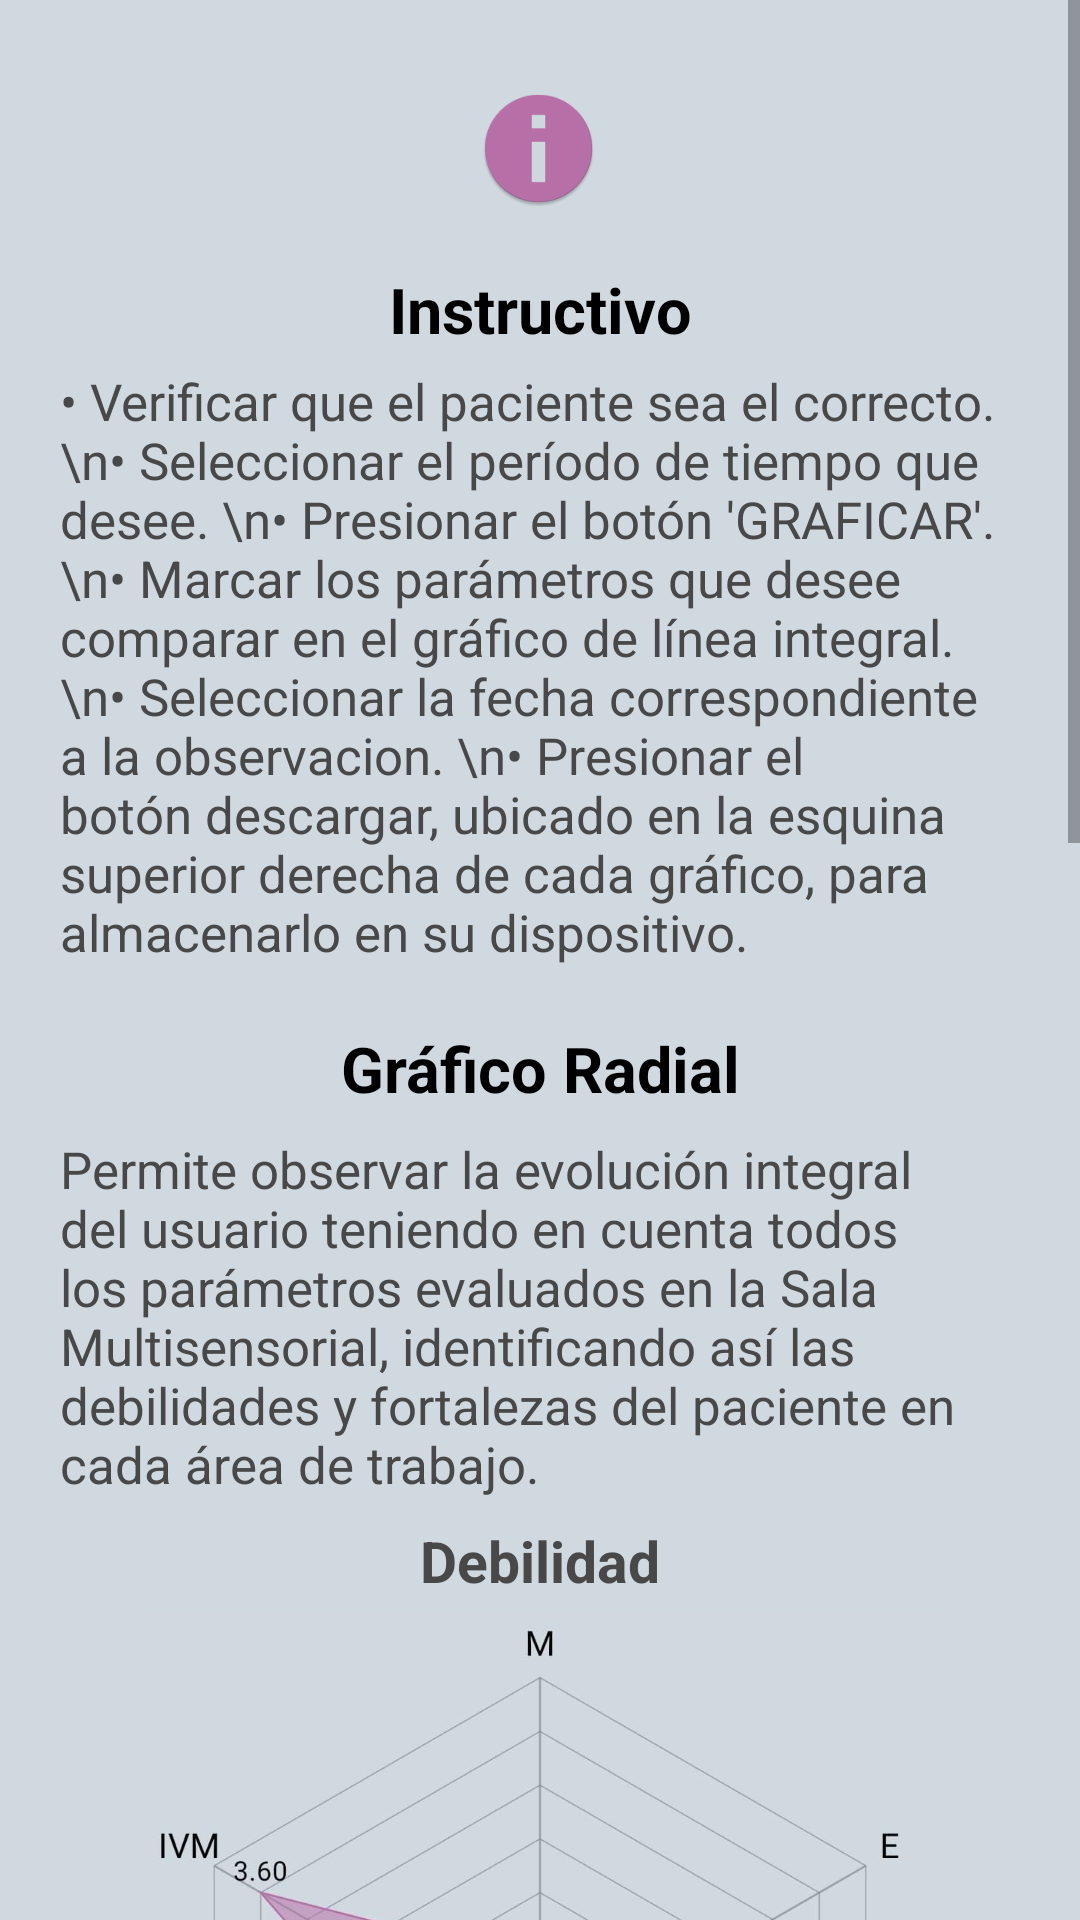

Icon click points for this 1080×1920 phone screenshot, format [x,y]:
informacion: [539,150]
